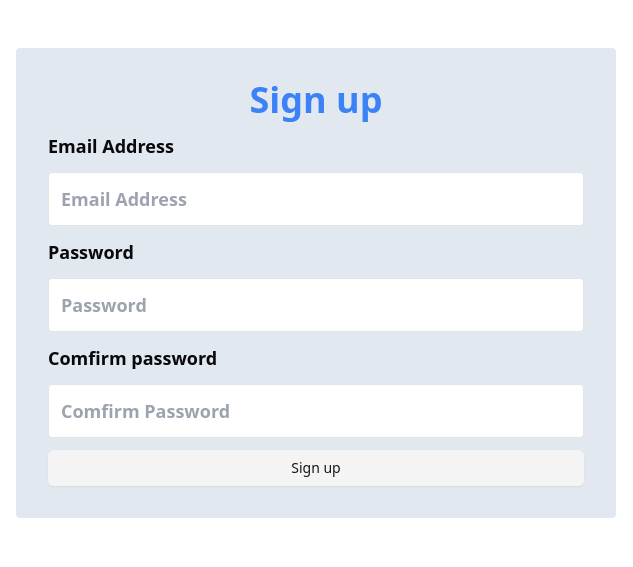
Scenario: sign up › Should show error for invalid gmail
Type "invalidemail" into the field named "email" at {"x": 316, "y": 199}, box top-left (48, 172), bottom-right (584, 226)
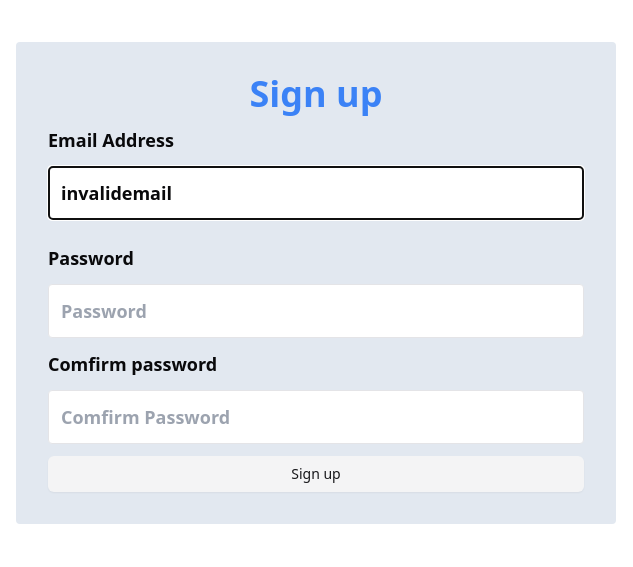
Type "Password@12345" into the password field named "password" at {"x": 316, "y": 311}, box top-left (48, 284), bottom-right (584, 338)
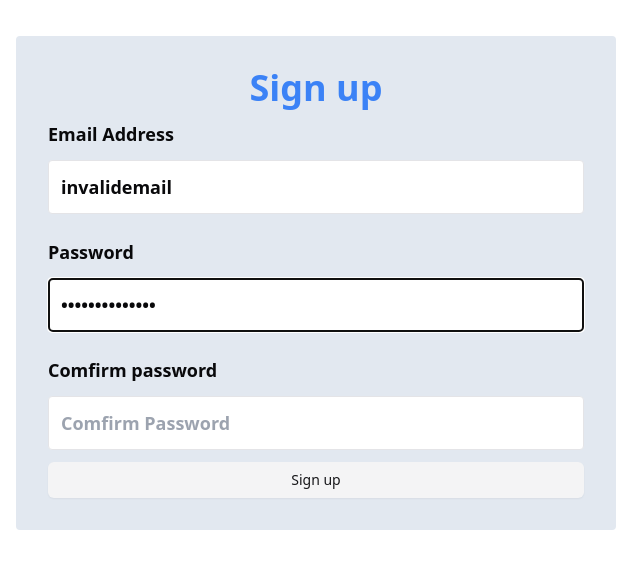
Type "Password@12345" into the password field named "cfpassword" at {"x": 316, "y": 423}, box top-left (48, 396), bottom-right (584, 450)
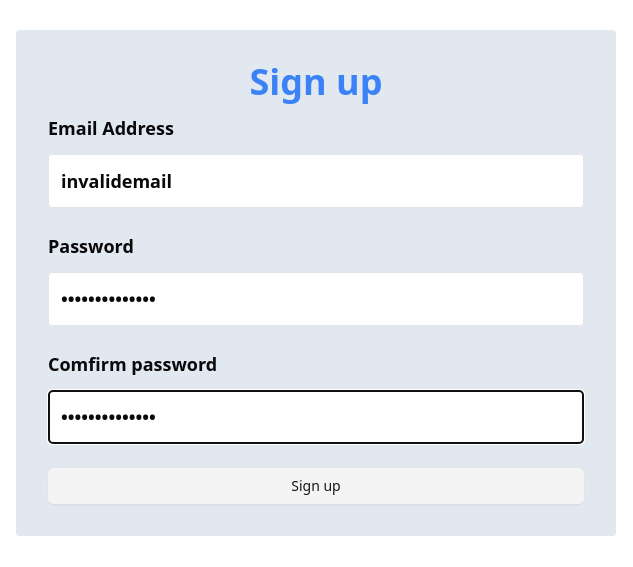
Click the submit button at {"x": 316, "y": 486}, box top-left (48, 468), bottom-right (584, 504)
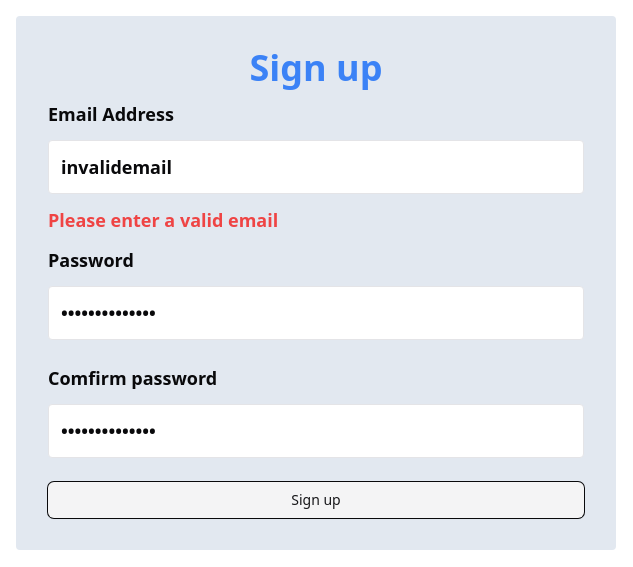
Now the text "Please enter a valid email" is shown, box top-left (48, 208), bottom-right (278, 232)
